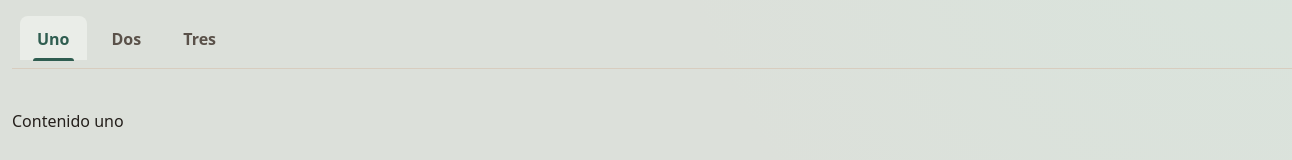
Test case: Subpestañas › muestra solo el panel seleccionado y expone la relación ARIA
Check: the text "Contenido uno" is shown, box 12,110 -> 124,132
Check: the text "Contenido dos" is not shown
Click the tab "Dos". click: (126, 38)
box: 94,16 -> 158,60
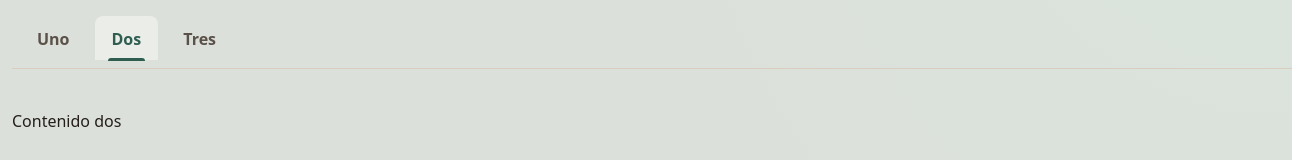
Check: the text "Contenido dos" is shown, box 12,110 -> 121,132
Check: the text "Contenido uno" is gone
